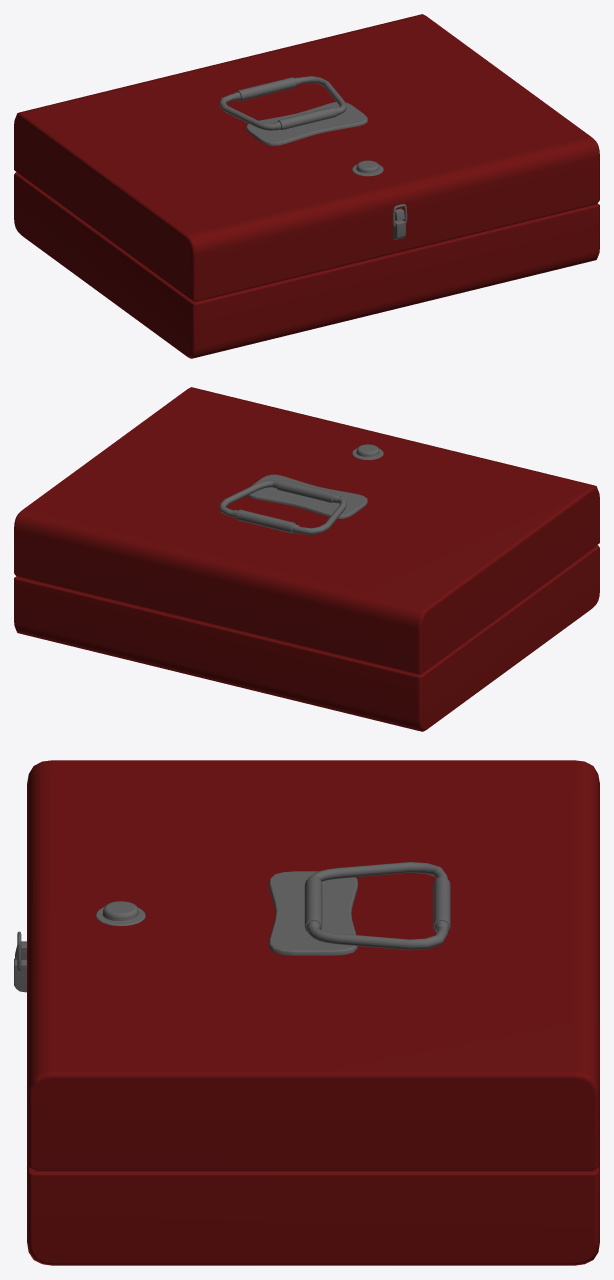
Rendered from SeanElstonToolbox02Final.fbx.
3 renders of one model, top to bottom at view 1: azimuth 30°, elevation 25°; view 2: azimuth 150°, elevation 25°; view 3: azimuth 270°, elevation 25°, orthographic. The views are drawn at different scales.
Parts seen in each view (by area): view 1: Toolbox02; view 2: Toolbox02; view 3: Toolbox02.
Part boxes in pixels (x1,y1,x2,y2): Toolbox02: (14, 14, 599, 358); Toolbox02: (14, 387, 599, 731); Toolbox02: (14, 760, 599, 1265).
Size of the model in its own units: 39.74 by 12.47 by 31.18.
